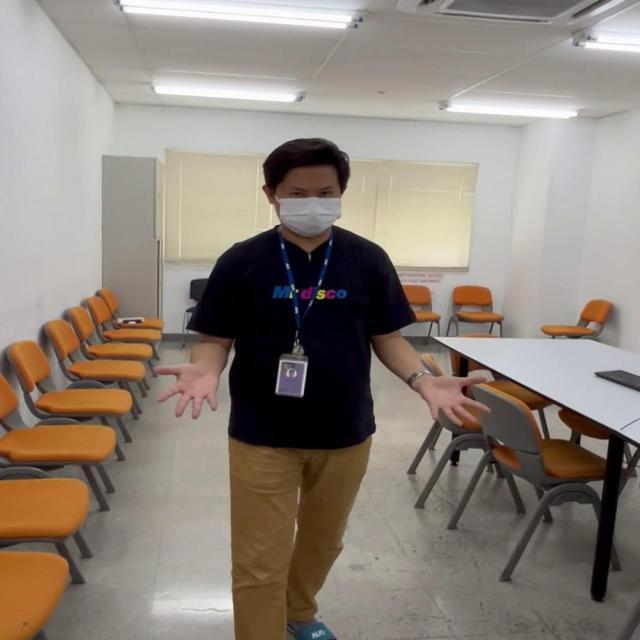bare_hand: (407, 365, 492, 430), (153, 354, 226, 420)
